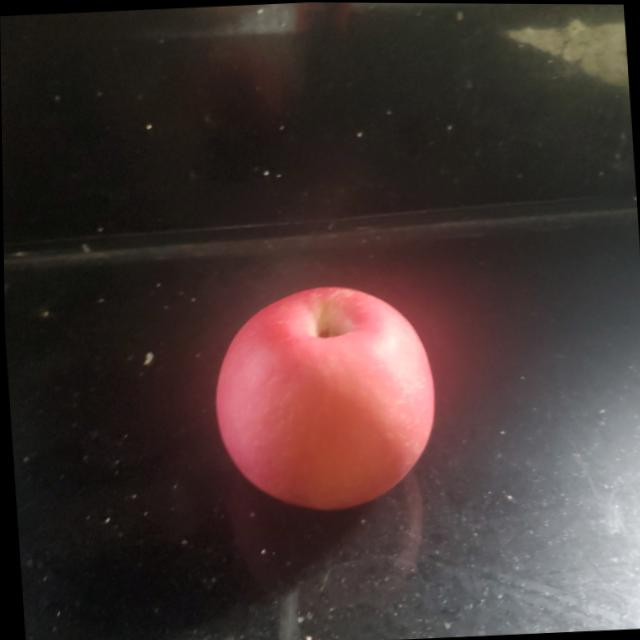apple: (207, 284, 440, 518)
